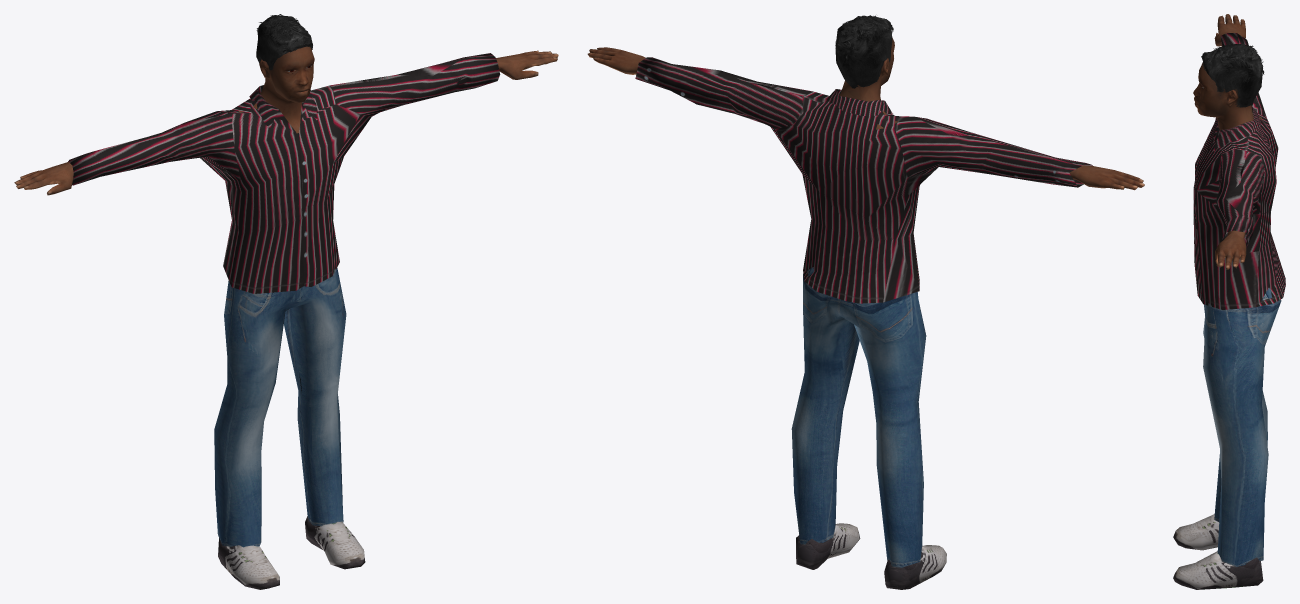
File: black_male_long_shirt.fbx
3 renders of one model, left to right at view 1: azimuth 30°, elevation 25°; view 2: azimuth 150°, elevation 25°; view 3: azimuth 270°, elevation 25°, orthographic. The views are drawn at different scales.
Parts seen in each view (by area): view 1: male_casualsuit03Mesh, black_human_male_long_shirtMesh, shoes05Mesh, short01Mesh; view 2: male_casualsuit03Mesh, short01Mesh, shoes05Mesh, black_human_male_long_shirtMesh; view 3: male_casualsuit03Mesh, shoes05Mesh, black_human_male_long_shirtMesh, short01Mesh.
Part boxes in pixels (<box>): male_casualsuit03Mesh: <box>68,53,500,547</box>; black_human_male_long_shirtMesh: <box>14,46,558,195</box>; shoes05Mesh: <box>218,516,365,589</box>; short01Mesh: <box>256,14,312,70</box>; male_casualsuit03Mesh: <box>635,57,1092,567</box>; short01Mesh: <box>835,15,893,88</box>; shoes05Mesh: <box>796,523,946,589</box>; black_human_male_long_shirtMesh: <box>587,38,1144,190</box>; male_casualsuit03Mesh: <box>1193,33,1285,566</box>; shoes05Mesh: <box>1173,514,1263,589</box>; black_human_male_long_shirtMesh: <box>1193,14,1262,269</box>; short01Mesh: <box>1201,44,1264,107</box>.
Size of the model in its own units: 194 by 186 by 36.58.
